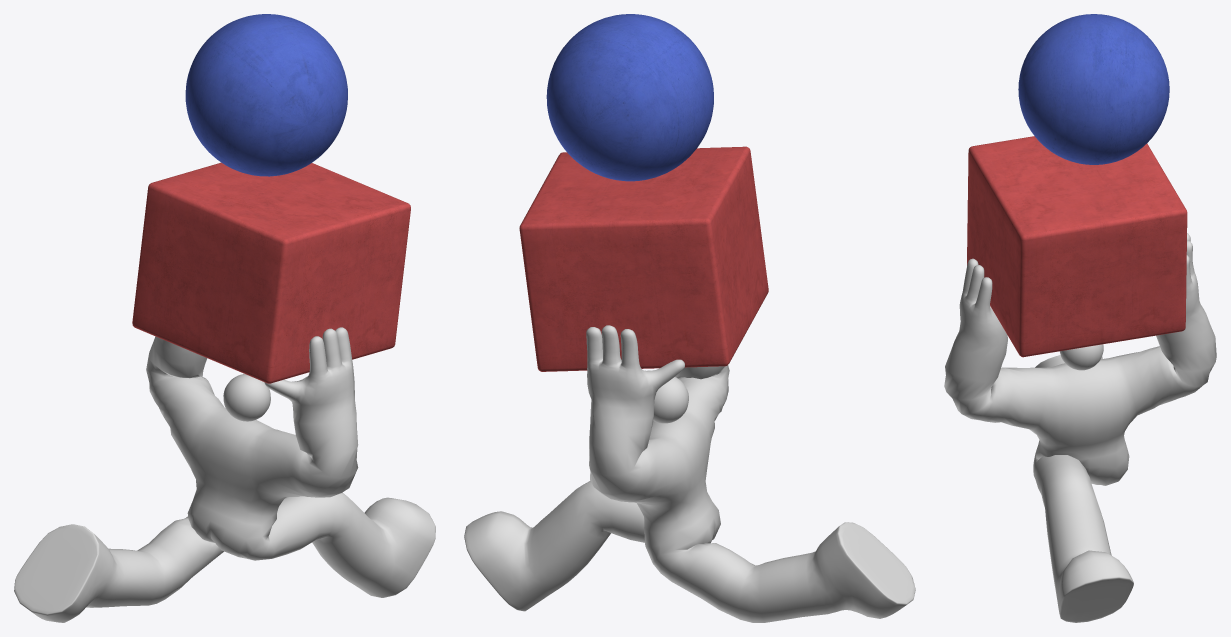
The model's file is man3.gltf.
The picture shows the model from 3 angles, left to right: view 1: azimuth 30°, elevation 25°; view 2: azimuth 150°, elevation 25°; view 3: azimuth 270°, elevation 25°; orthographic projection. The views are drawn at different scales.
Visible parts, largest first — view 1: man3; view 2: man3; view 3: man3.
Boxes of the visible parts, x1,y1,x2,y2 form: man3: [14, 14, 435, 622]; man3: [464, 14, 915, 622]; man3: [944, 14, 1216, 622].
Bounding box in the file's own units: 40.66 × 55.71 × 24.8.
Materials: 3 (3 with a texture image).
